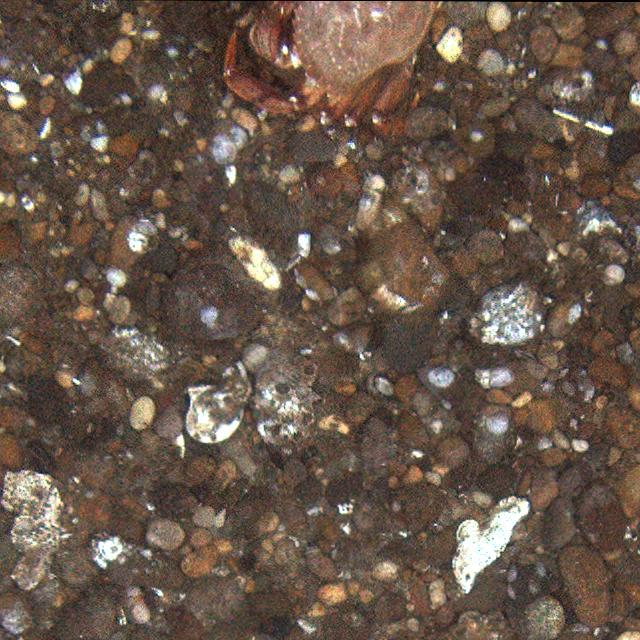crab: (219, 0, 441, 138)
